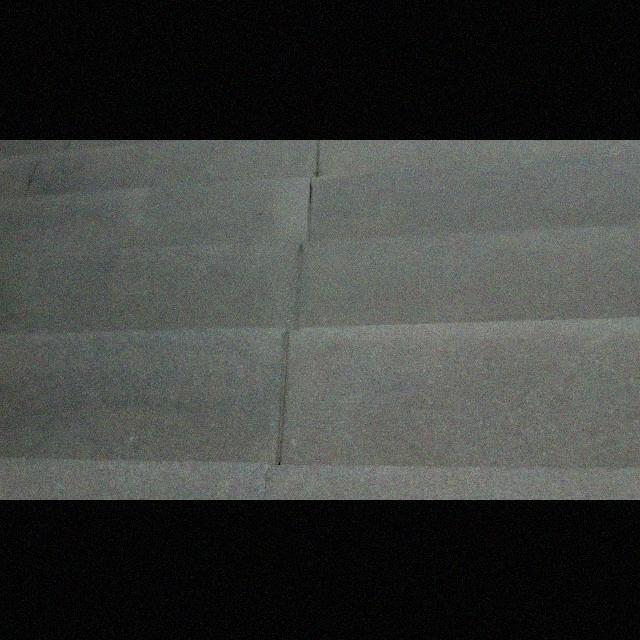stair: (5, 138, 640, 488)
